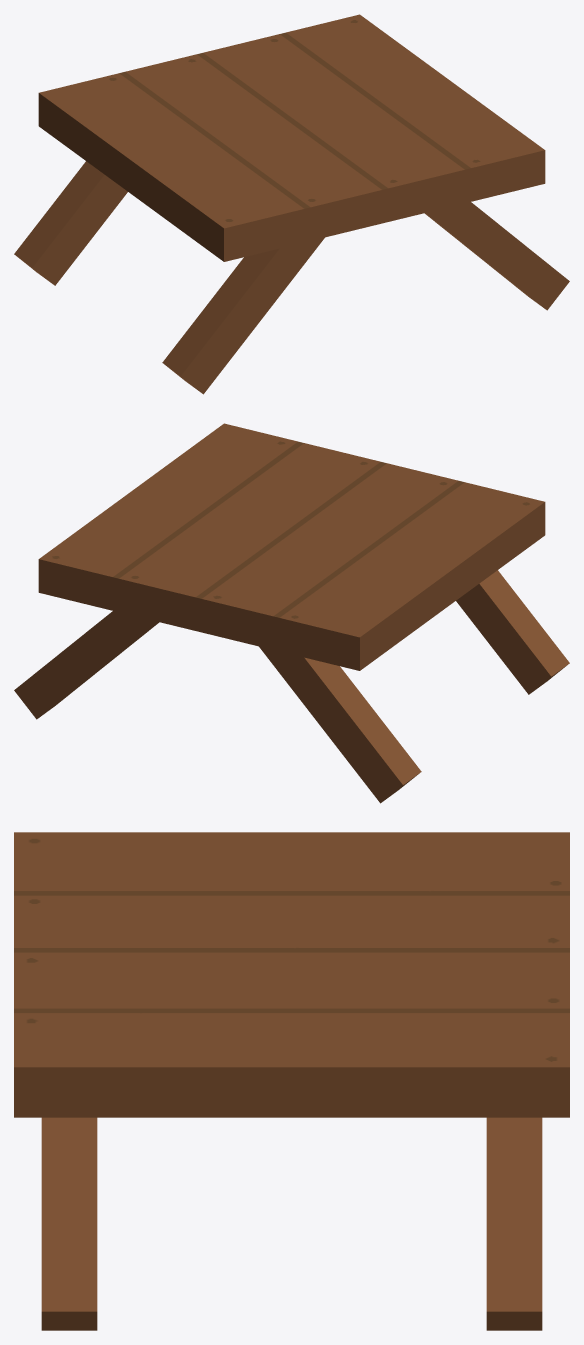
File: MiniBridge.obj
3 views of the same model, one above another, from view 1: azimuth 30°, elevation 25°; view 2: azimuth 150°, elevation 25°; view 3: azimuth 270°, elevation 25° (orthographic). The views are drawn at different scales.
Parts seen in each view (by area): view 1: Cube; view 2: Cube; view 3: Cube.
Boxes of the visible parts, <box> form: Cube: <box>14,14,569,394</box>; Cube: <box>14,423,569,803</box>; Cube: <box>14,832,569,1330</box>.
Bounding box in the file's own units: 1.21 × 0.5061 × 1.
Materials: 1 (1 with a texture image).
